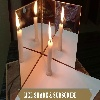fire: (48, 22, 54, 45)
